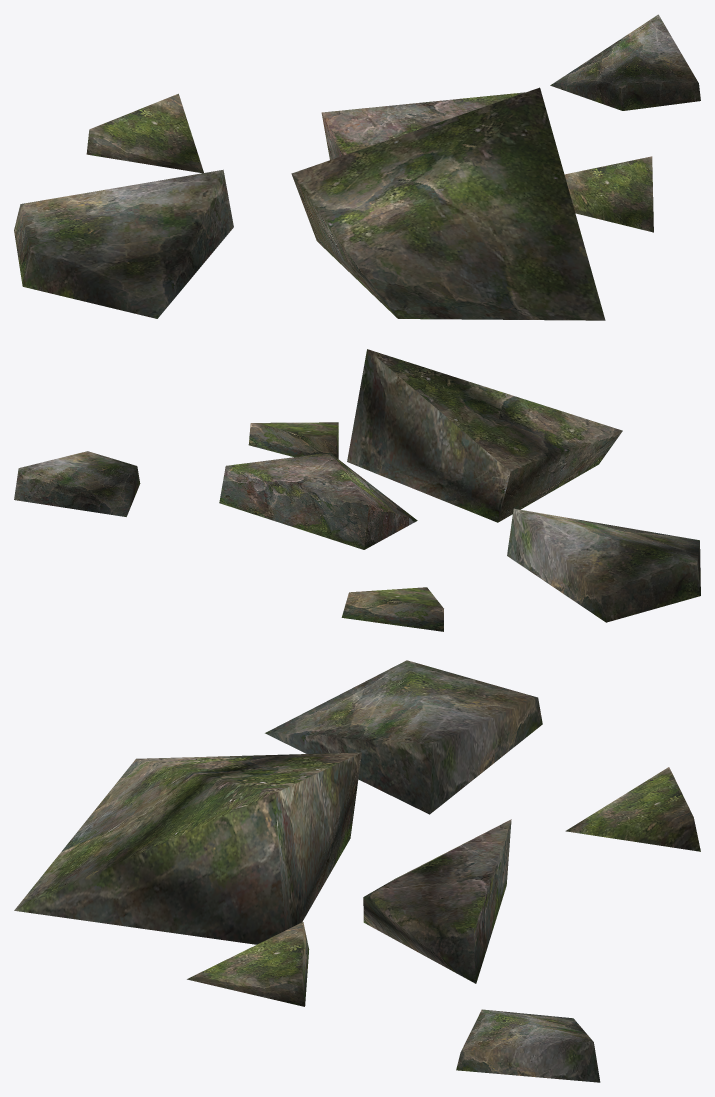
The model's file is Rock03_lod2.glb.
3 views of the same model, one above another, from view 1: azimuth 30°, elevation 25°; view 2: azimuth 150°, elevation 25°; view 3: azimuth 270°, elevation 25° (orthographic). The views are drawn at different scales.
Visible parts, largest first — view 1: common_rock_03_lod02; view 2: common_rock_03_lod02; view 3: common_rock_03_lod02.
Part boxes in pixels (left/top/right/bottom): common_rock_03_lod02: left=14, top=14, right=700, bottom=320; common_rock_03_lod02: left=14, top=349, right=700, bottom=631; common_rock_03_lod02: left=14, top=660, right=700, bottom=1082.
Bounding box in the file's own units: 3.18 × 0.5643 × 2.39.
1 material, 1 textured.
